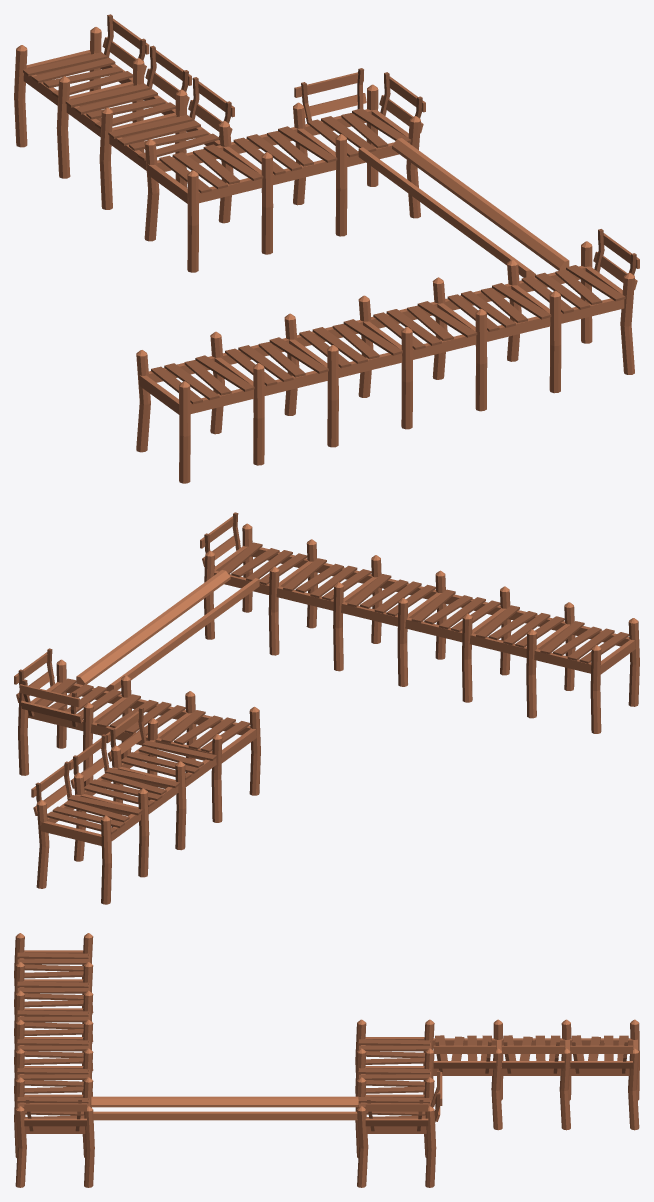
File: StartMenuLevel.fbx
The picture shows the model from 3 angles, top to bottom: view 1: azimuth 30°, elevation 25°; view 2: azimuth 150°, elevation 25°; view 3: azimuth 270°, elevation 25°; orthographic projection. The views are drawn at different scales.
Parts seen in each view (by area): view 1: Cube.011; view 2: Cube.011; view 3: Cube.011.
Part boxes in pixels (x1=…): Cube.011: x1=14, y1=14, x2=639, y2=483; Cube.011: x1=14, y1=512, x2=639, y2=904; Cube.011: x1=14, y1=933, x2=639, y2=1187.
Size of the model in its own units: 1834 by 291 by 1250.
